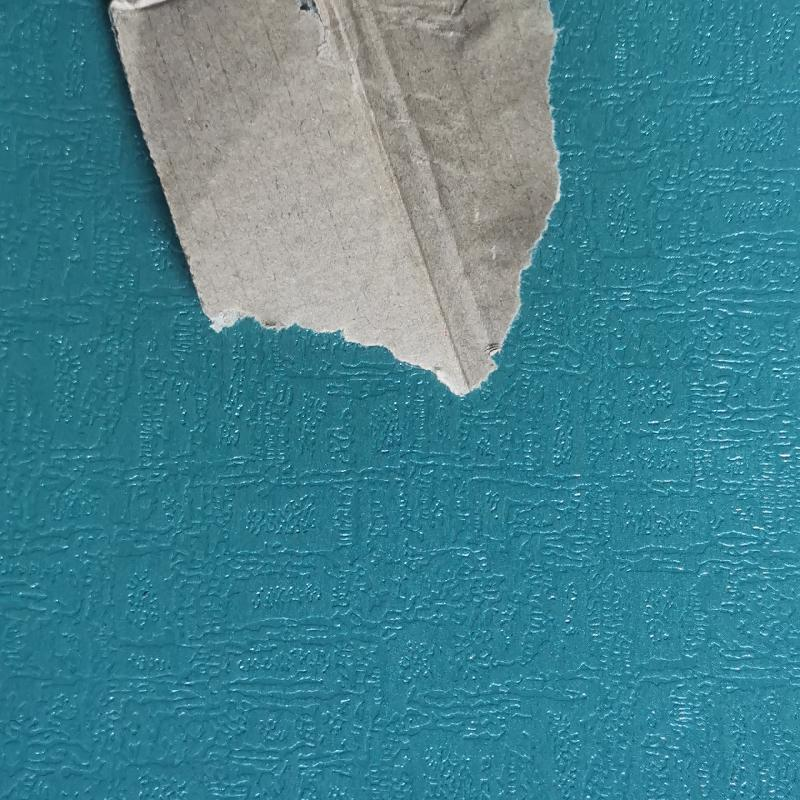boxes: (86, 1, 580, 400)
